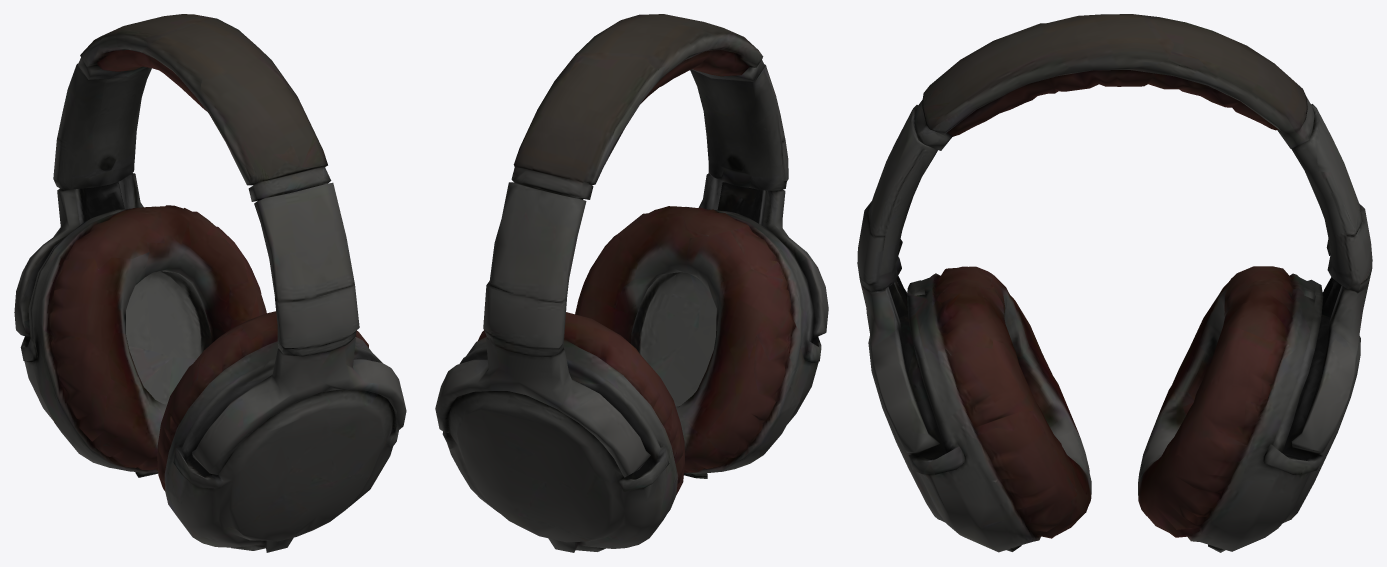
File: headphones-v2.glb
The picture shows the model from 3 angles, left to right: view 1: azimuth 30°, elevation 25°; view 2: azimuth 150°, elevation 25°; view 3: azimuth 270°, elevation 25°; orthographic projection. The views are drawn at different scales.
Parts seen in each view (by area): view 1: prop__headphones; view 2: prop__headphones; view 3: prop__headphones.
Part boxes in pixels (left/top/right/bottom): prop__headphones: left=14, top=14, right=406, bottom=552; prop__headphones: left=435, top=14, right=828, bottom=552; prop__headphones: left=857, top=14, right=1372, bottom=552.
Bounding box in the file's own units: 0.104 × 0.22 × 0.2024.
Materials: 1 (1 with a texture image).
